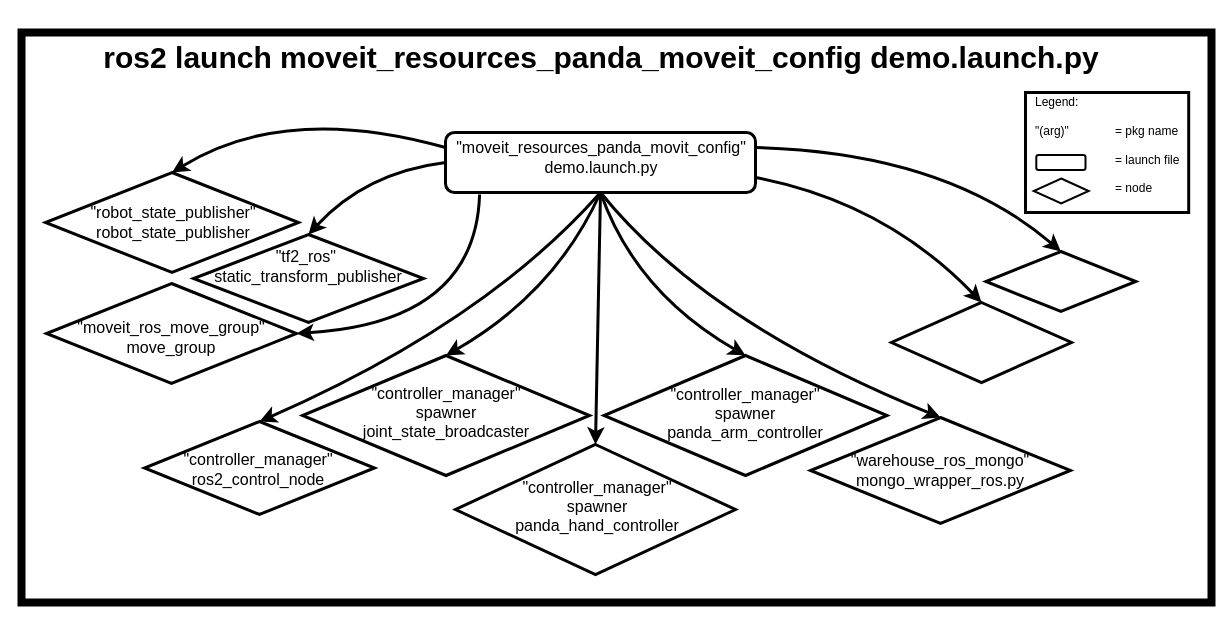
Some shapes in this 1232 by 624 pixel diagram are drawn without their labels. Each missing label, with the centre of its shape:
"ros_gz_sim" create: pixel 981 342
"rviz2" rviz2: pixel 1060 281
